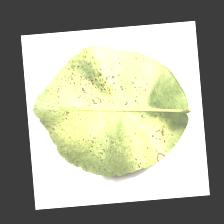canker: (77, 68, 131, 106)
